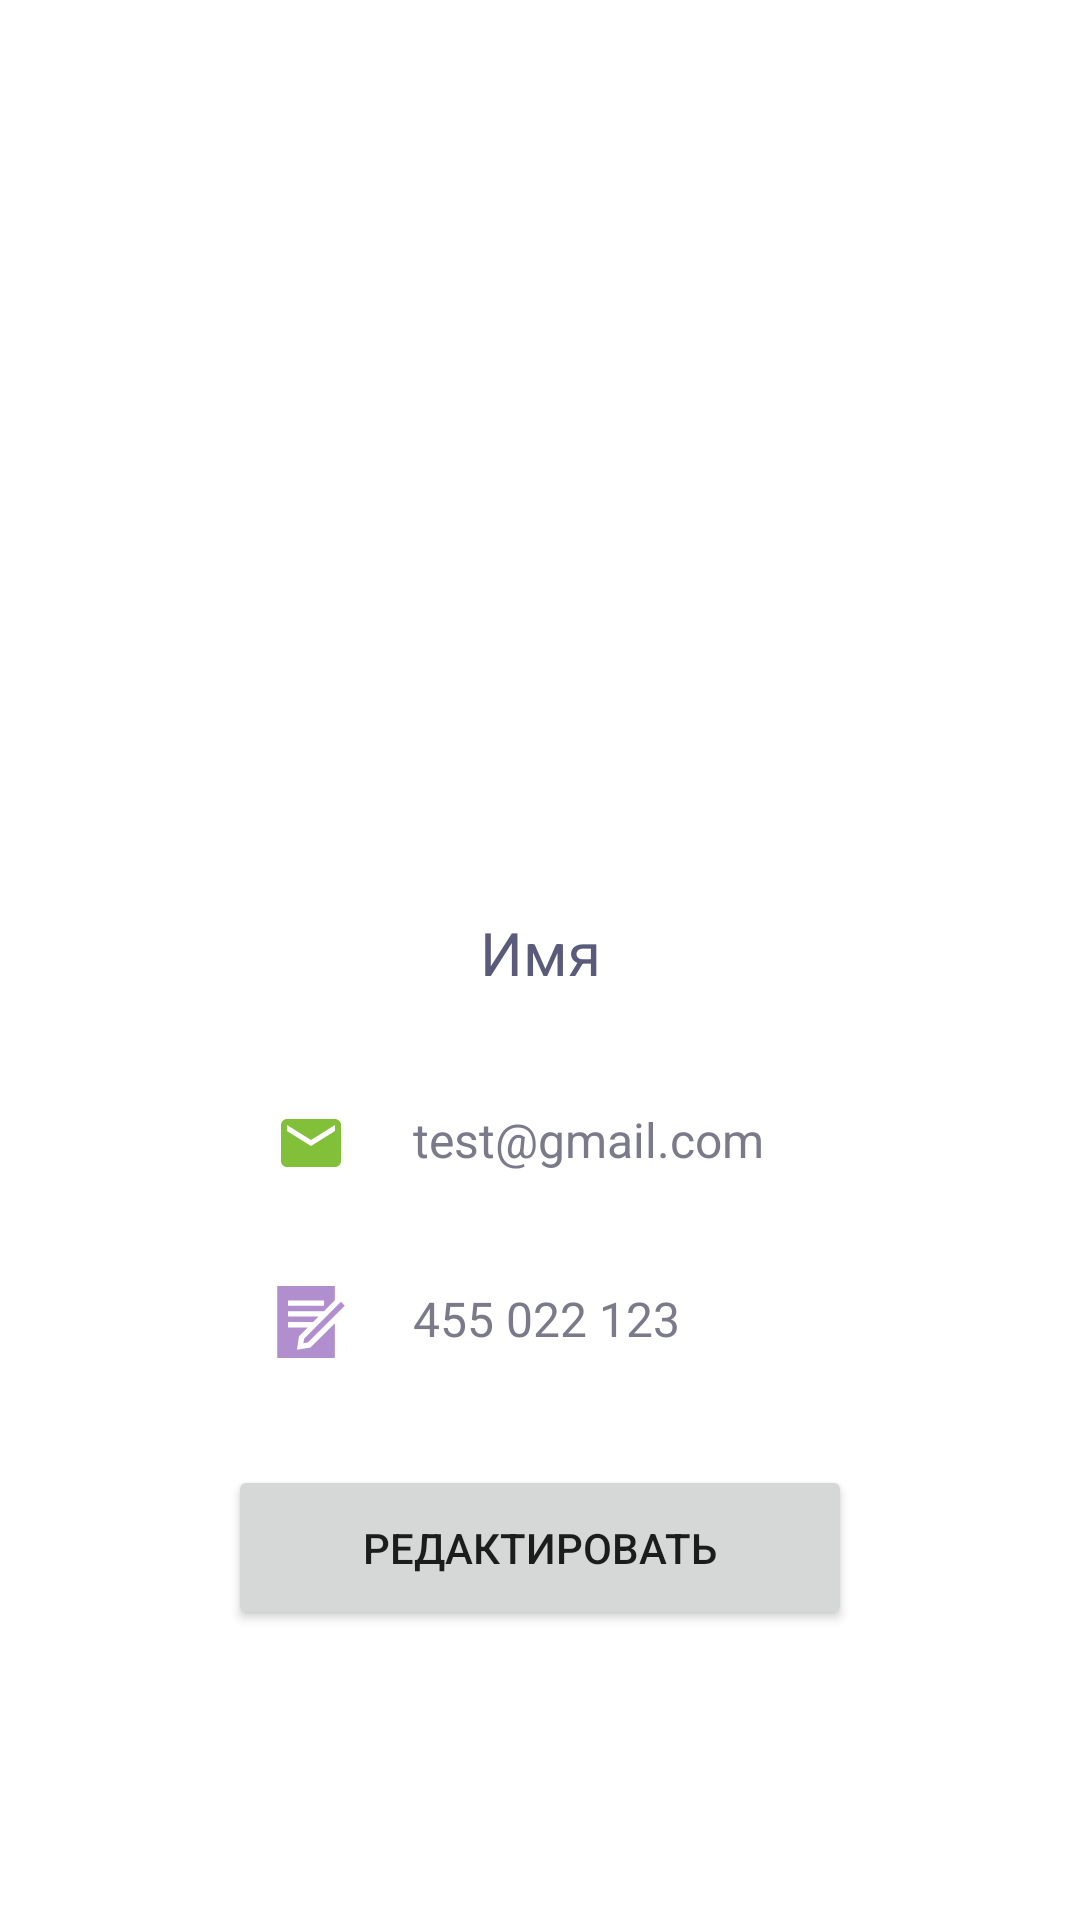

Where to tap for icons on this 1080 x 1920 app screen, as (x=x, y=y):
contract: (x=311, y=1322)
email: (x=311, y=1143)
